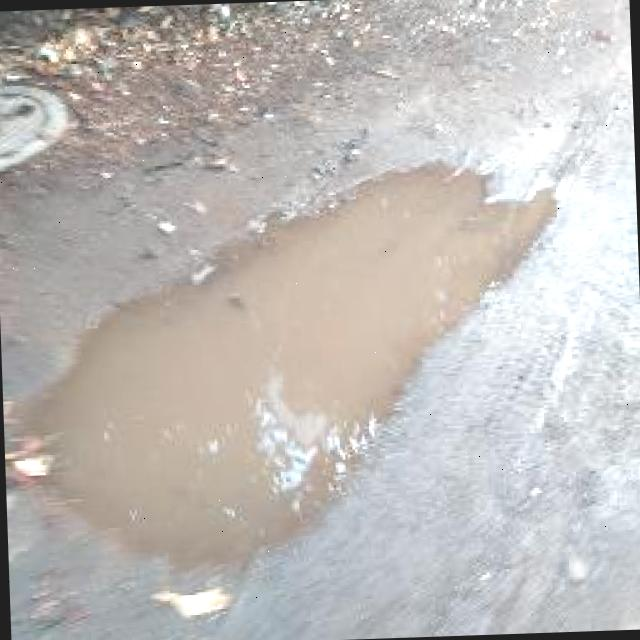stagnation: (9, 163, 580, 590)
